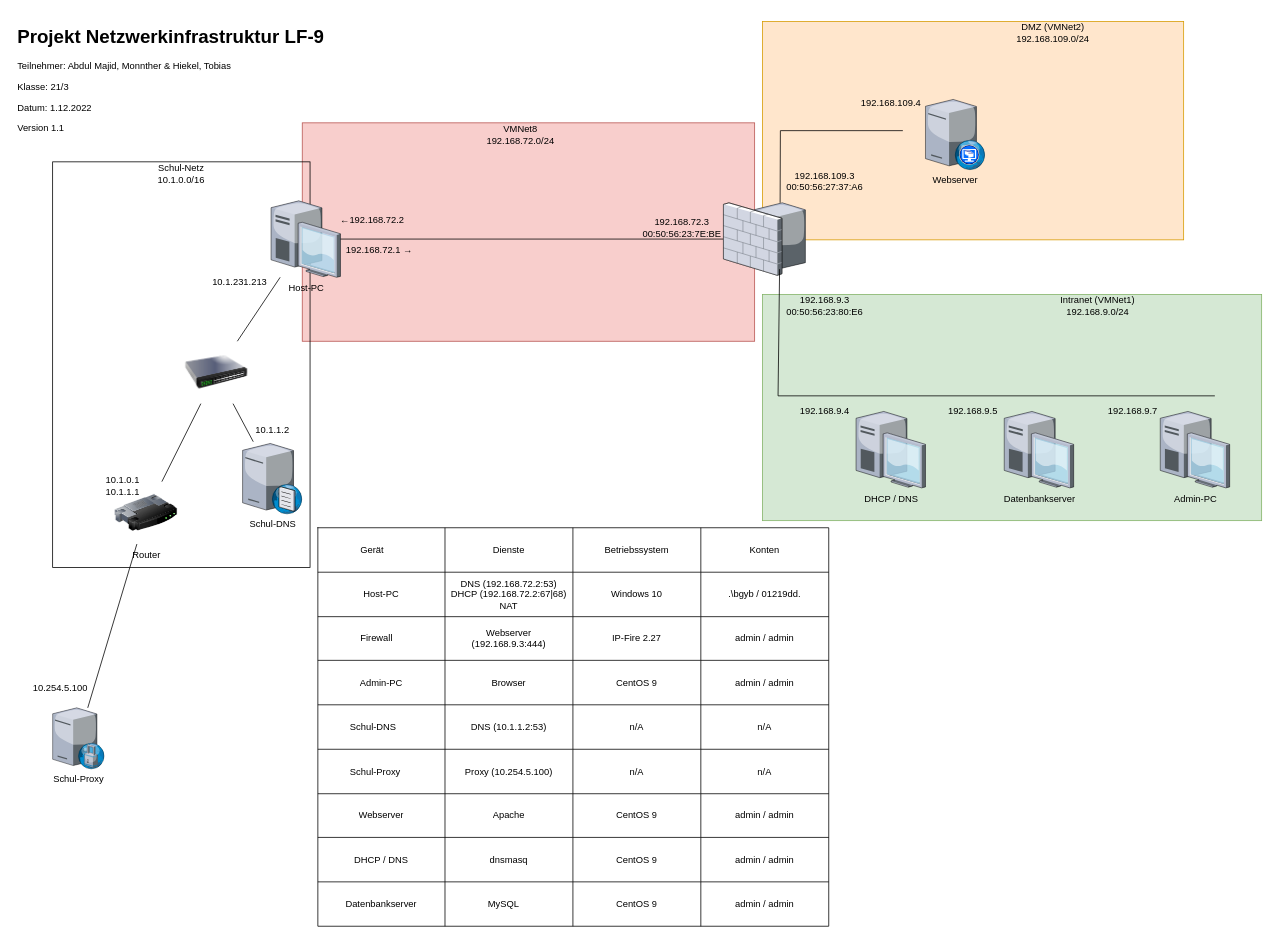
Image size: 1275x940. Some labels were removed from this diagram. The centre of each missing label's shape, as x and y in pixels:
Firewall (IP-Fire): (x=752, y=238)
Switch: (x=216, y=372)
